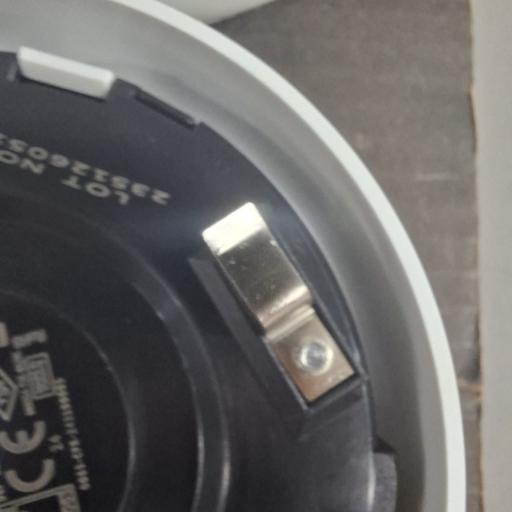yaysiz: (190, 186, 360, 414)
